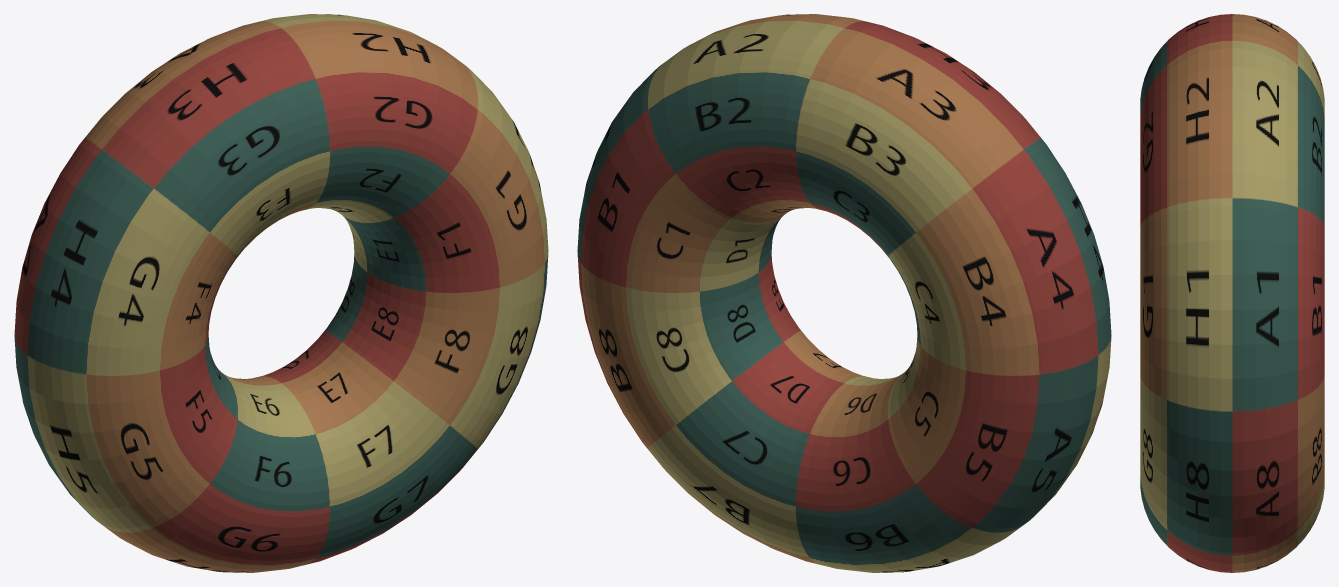
The model's file is texture_torus_R4_r16.glb.
3 views of the same model, side by side, from view 1: azimuth 30°, elevation 25°; view 2: azimuth 150°, elevation 25°; view 3: azimuth 270°, elevation 25° (orthographic). The views are drawn at different scales.
Visible parts, largest first — view 1: world; view 2: world; view 3: world.
Part boxes in pixels (x1=…): world: x1=14, y1=14, x2=548, y2=572; world: x1=577, y1=14, x2=1111, y2=572; world: x1=1140, y1=14, x2=1324, y2=572.
Size of the model in its own units: 18.93 by 18.9 by 6.25.
1 material, 1 textured.
